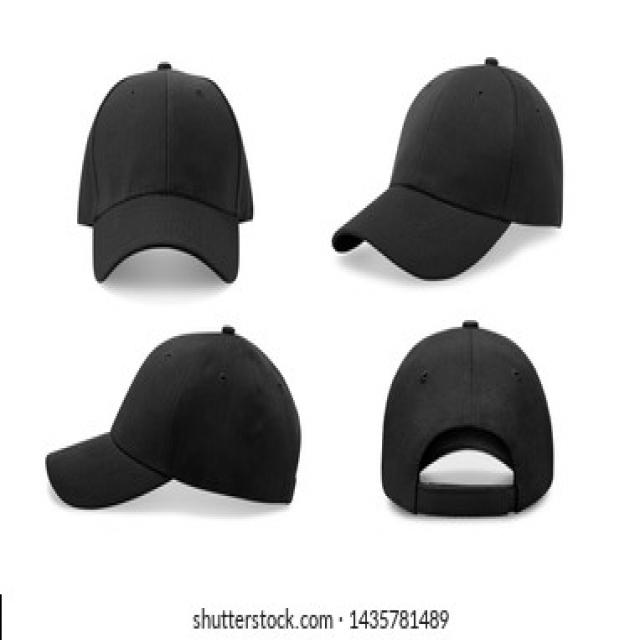mask: (60, 27, 582, 517)
